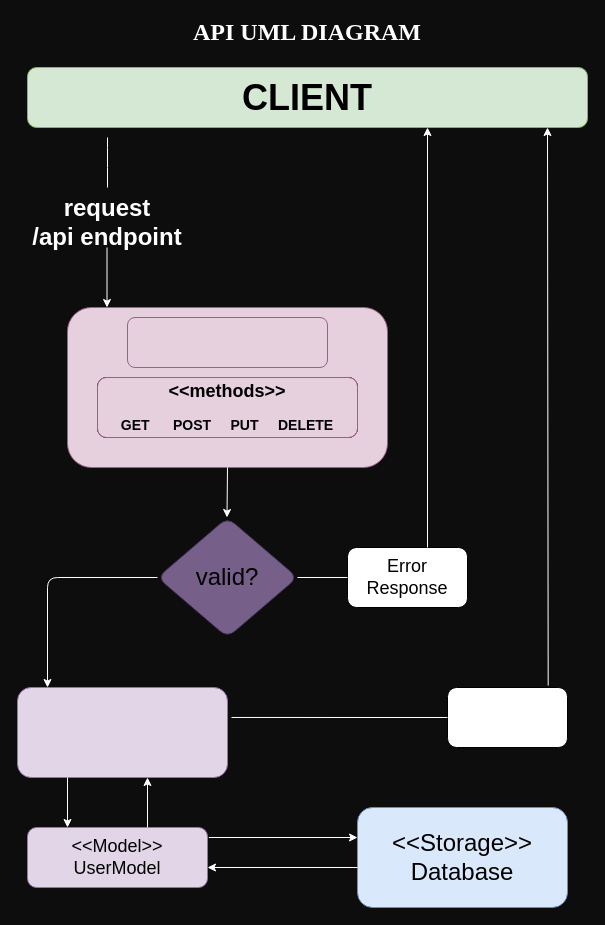
Some shapes in this 605 by 925 pixel diagram are drawn without their labels. Here are the shapes that lost their labels. From the top down, the centre of each, then its label:
At (x=227, y=342): "<<resource>> Person".
At (x=122, y=732): "<<Controller>> UserController".
At (x=507, y=717): "Response".
